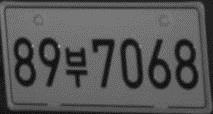0: (119, 37, 144, 89)
6: (147, 37, 171, 89)
7: (91, 37, 115, 88)
8: (173, 37, 198, 89), (12, 36, 36, 87)
9: (37, 36, 60, 87)
부: (64, 44, 89, 88)
